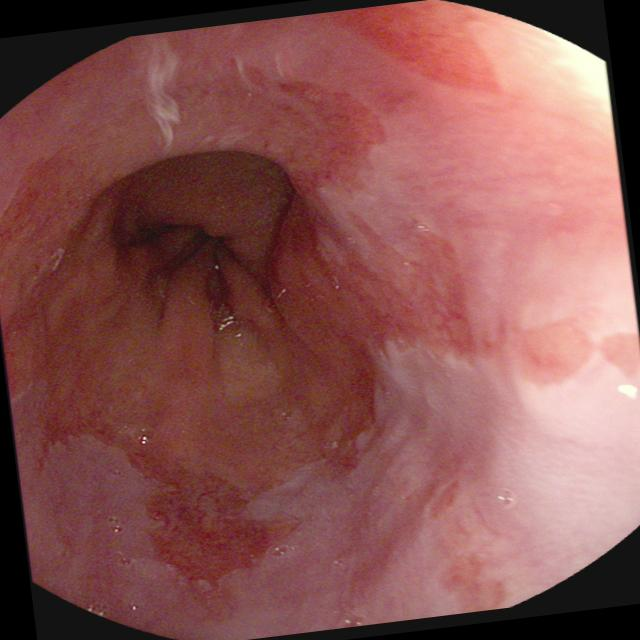esophagitis: (0, 32, 640, 596), (317, 0, 509, 111), (409, 444, 525, 606)
